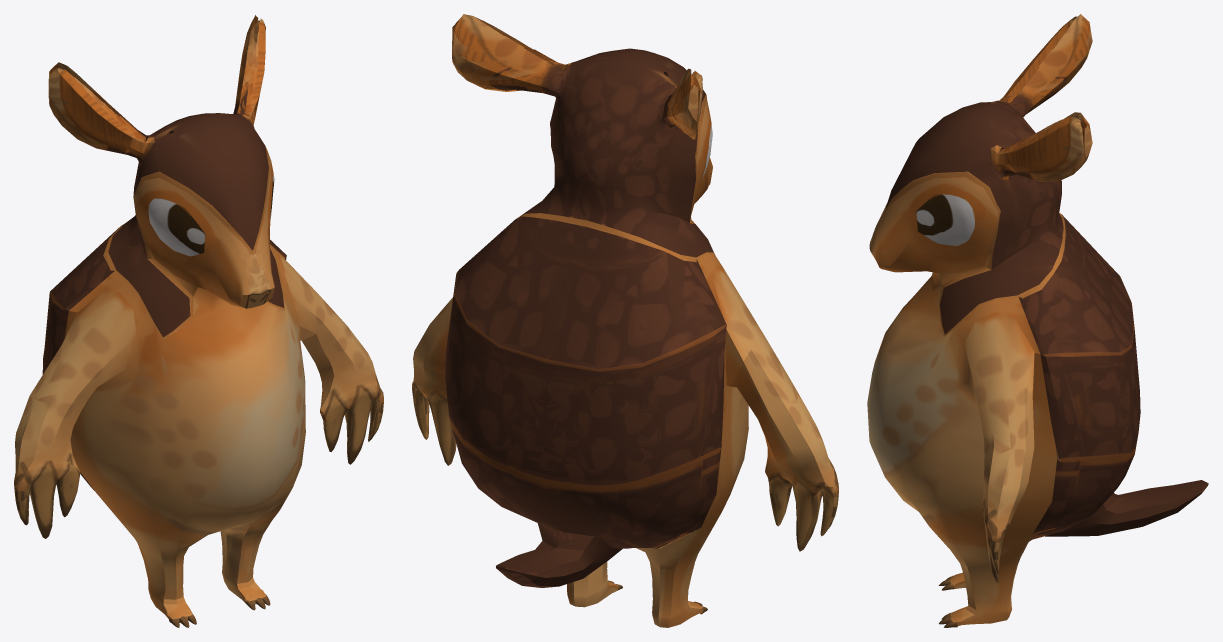
The model's file is TATU_CANASTRA.fbx.
3 renders of one model, left to right at view 1: azimuth 30°, elevation 25°; view 2: azimuth 150°, elevation 25°; view 3: azimuth 270°, elevation 25°, orthographic. The views are drawn at different scales.
Visible parts, largest first — view 1: Tatu; view 2: Tatu; view 3: Tatu.
Boxes of the visible parts, x1,y1,x2,y2 form: Tatu: (14,15,383,627); Tatu: (412,14,838,627); Tatu: (867,14,1208,627).
Size of the model in its own units: 73.13 by 101 by 57.44.
